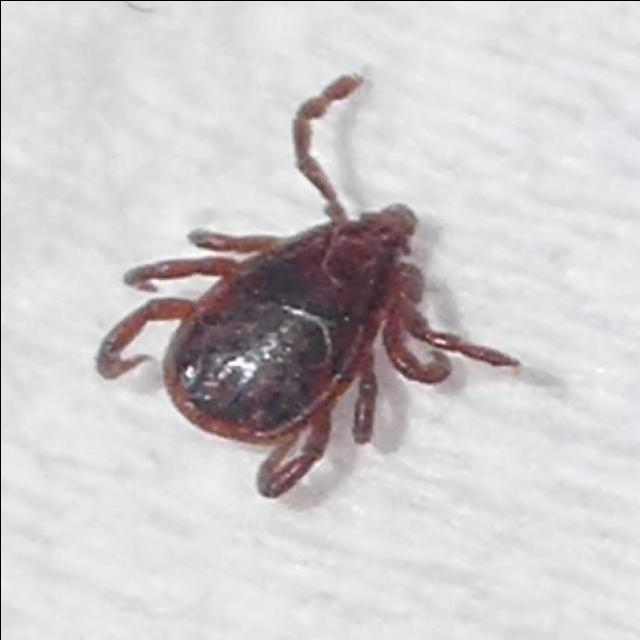Rhipicephalus Sanguineus-M: (94, 74, 521, 500)
